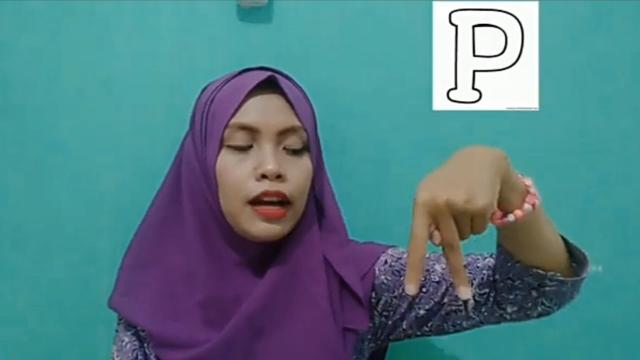P: (400, 141, 500, 306)
